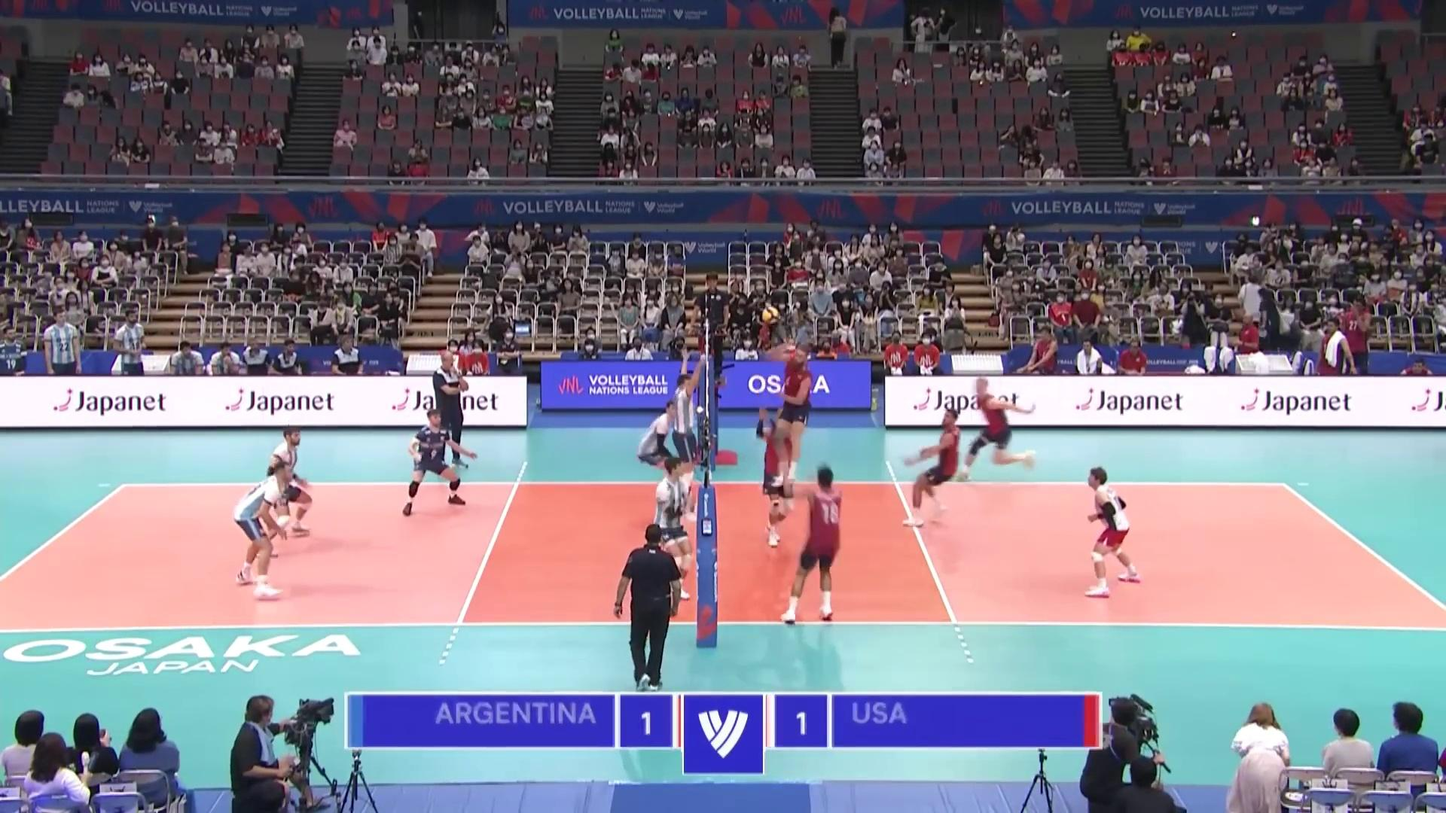player: (784, 469, 845, 622), (232, 465, 297, 600), (958, 378, 1037, 478), (1084, 468, 1144, 594), (902, 409, 960, 530), (403, 412, 471, 514), (770, 339, 816, 486), (260, 428, 313, 555), (756, 400, 800, 549), (649, 460, 694, 600), (670, 360, 703, 519), (639, 399, 686, 505)
refree: (613, 522, 687, 690), (687, 272, 732, 371)
